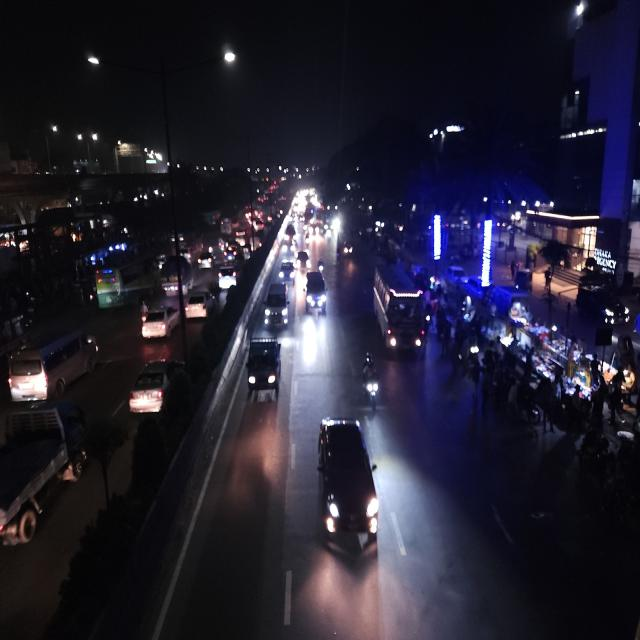bus: (370, 262, 432, 359), (93, 253, 159, 310), (160, 255, 193, 298)
car: (313, 413, 384, 562), (5, 322, 101, 406), (125, 355, 188, 420), (262, 280, 290, 334), (140, 303, 178, 342), (303, 269, 327, 318), (184, 287, 214, 322), (444, 260, 467, 290), (216, 264, 240, 291), (278, 259, 296, 284), (196, 249, 215, 271), (294, 249, 312, 272), (282, 224, 298, 248)
motorcycle: (360, 351, 382, 413), (317, 257, 326, 278)
pickup_van: (0, 399, 88, 556), (242, 333, 285, 402)
